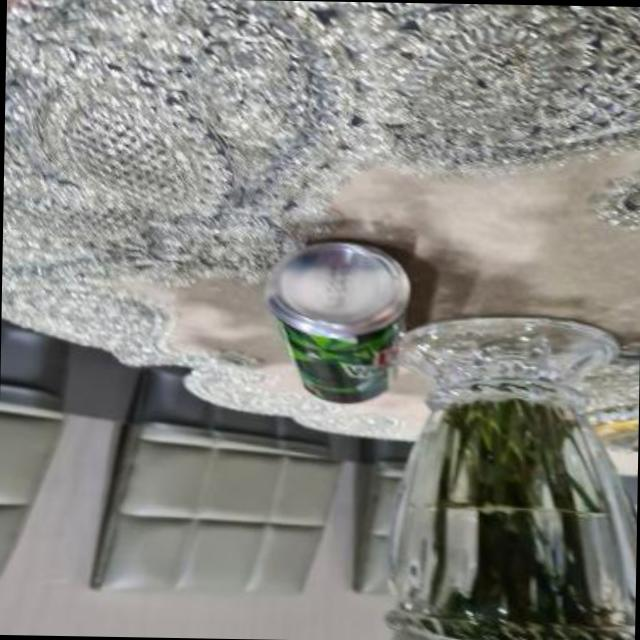metal: (265, 242, 407, 404)
